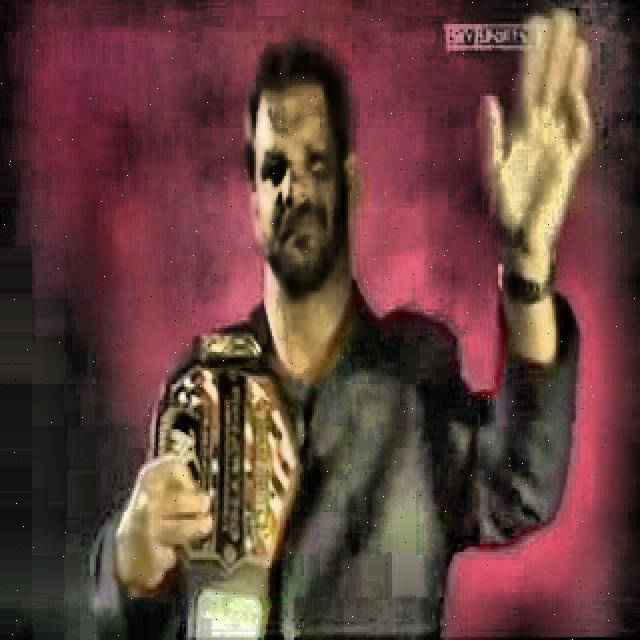L: (94, 27, 585, 638)
